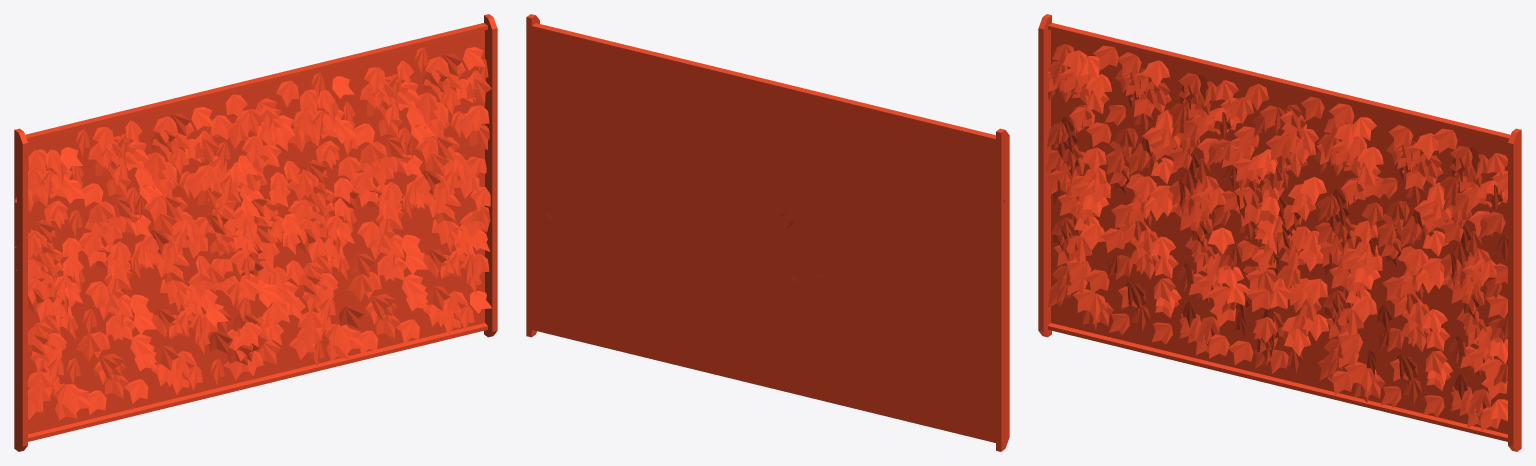
The model's file is SM_Leaf_Wall_City.fbx.
The picture shows the model from 3 angles, left to right: view 1: azimuth 30°, elevation 25°; view 2: azimuth 150°, elevation 25°; view 3: azimuth 330°, elevation 25°; orthographic projection.
Visible parts, largest first — view 1: SM_Leaf_Wall_City; view 2: SM_Leaf_Wall_City; view 3: SM_Leaf_Wall_City.
Part boxes in pixels (left/top/right/bottom): SM_Leaf_Wall_City: left=14, top=14, right=497, bottom=451; SM_Leaf_Wall_City: left=526, top=14, right=1009, bottom=451; SM_Leaf_Wall_City: left=1038, top=14, right=1521, bottom=451.
Bounding box in the file's own units: 3.8 × 2.43 × 0.2164.
